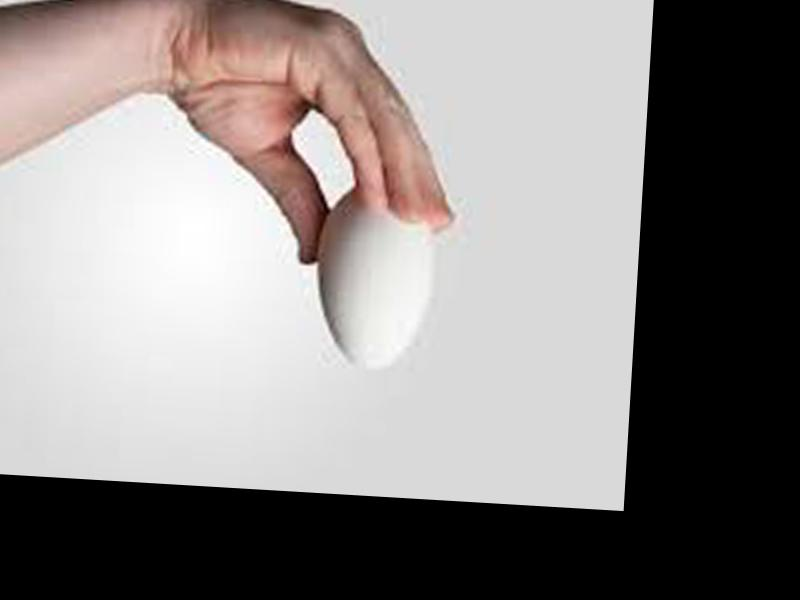Eggs: (310, 182, 442, 375)
